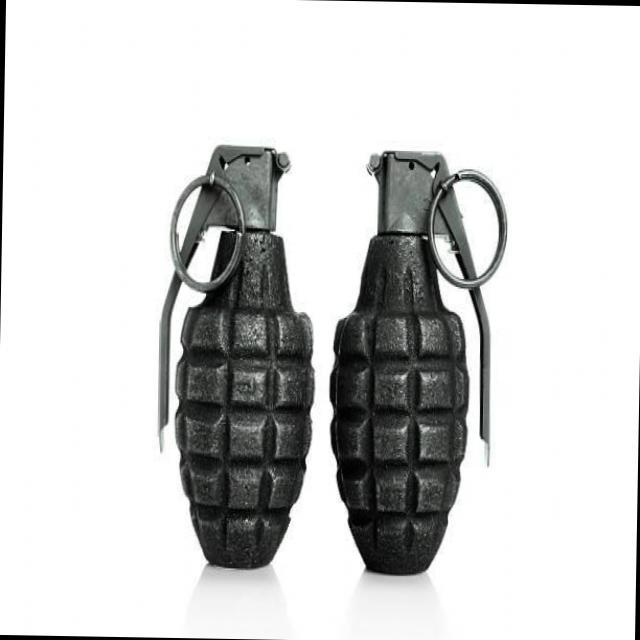grenade: (142, 86, 512, 566)
